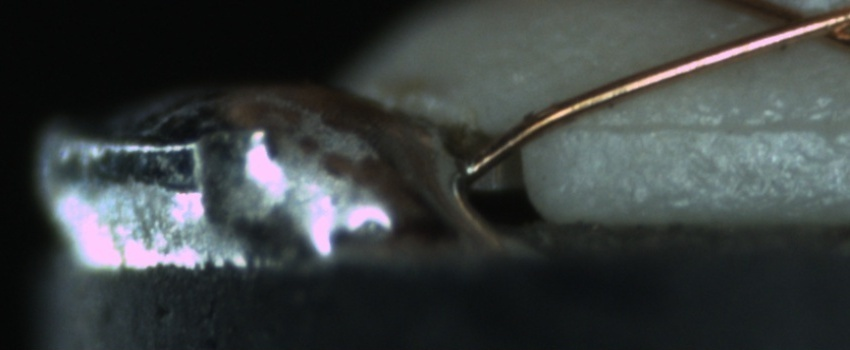CL: (750, 1, 848, 54)
DL: (572, 93, 847, 157)
